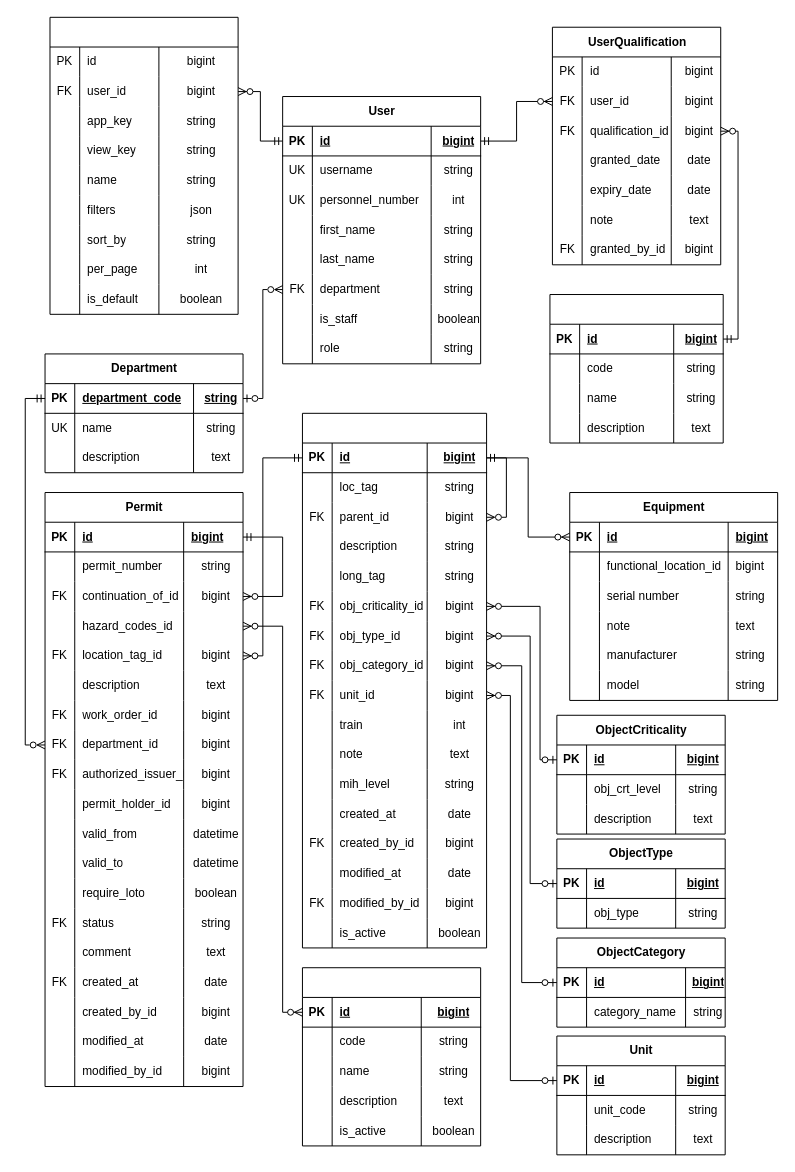
This 795x1172 diagram has some shape labels left out. The box of each missing label's shape, as (x1, y1, x2, y2) in pixels:
HazardCode: (301, 967, 481, 1146)
LocationTag: (301, 412, 487, 948)
Qualification: (549, 294, 723, 443)
UserFilterFavorite: (49, 16, 238, 314)
